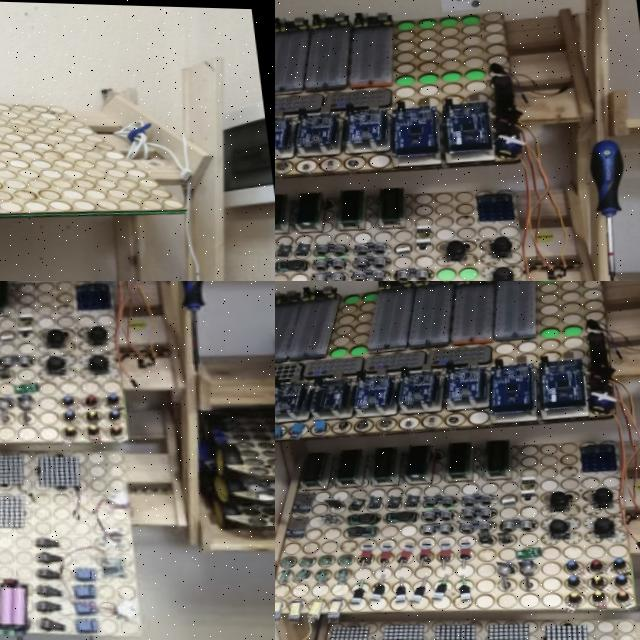Green-circles: (391, 57, 494, 88), (395, 8, 483, 31), (427, 257, 480, 281), (533, 315, 585, 339), (324, 343, 372, 358), (342, 287, 377, 304)
